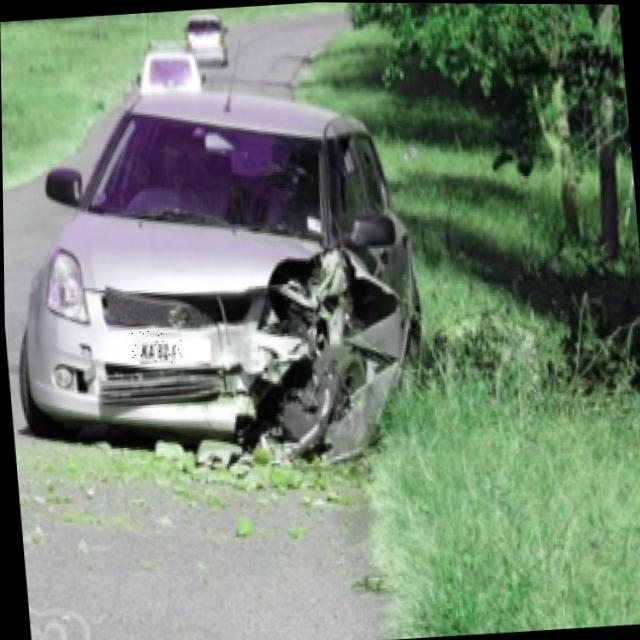license_plate: (129, 328, 183, 365)
